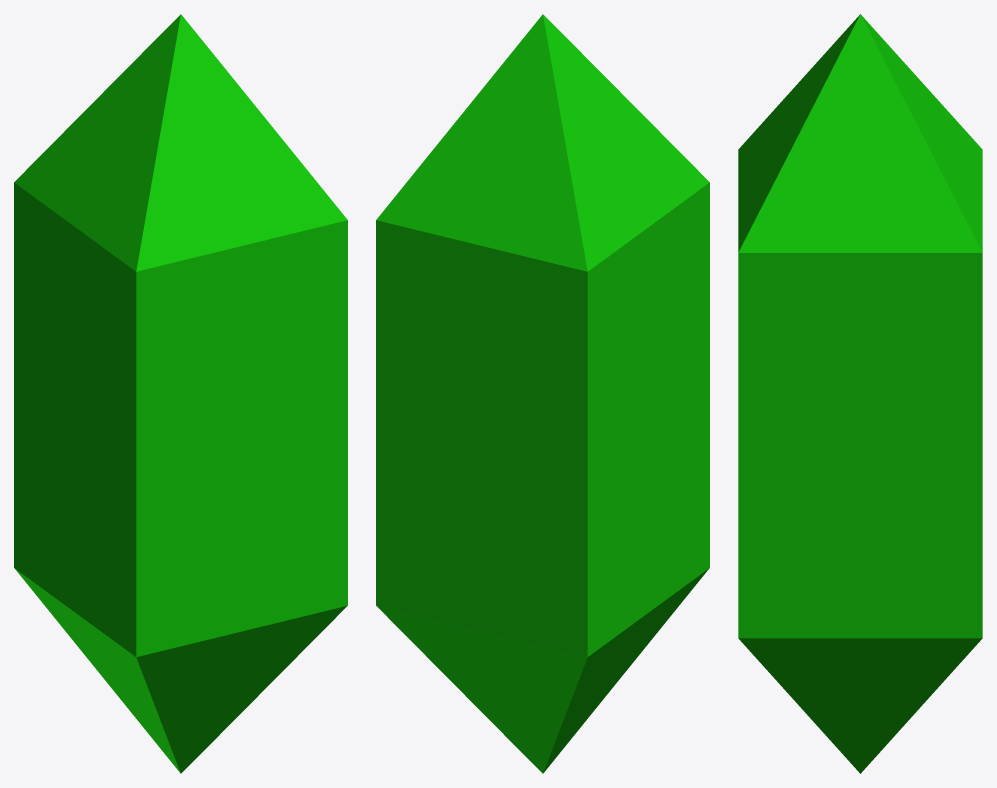
Rendered from treasure6ButtonText.obj.
The picture shows the model from 3 angles, left to right: view 1: azimuth 30°, elevation 25°; view 2: azimuth 150°, elevation 25°; view 3: azimuth 270°, elevation 25°; orthographic projection.
Parts seen in each view (by area): view 1: treasure6ButtonText; view 2: treasure6ButtonText; view 3: treasure6ButtonText.
Boxes of the visible parts, x1,y1,x2,y2 form: treasure6ButtonText: [14, 14, 347, 773]; treasure6ButtonText: [376, 14, 709, 773]; treasure6ButtonText: [738, 14, 982, 773].
Bounding box in the file's own units: 0.2169 × 0.7443 × 0.2169.
